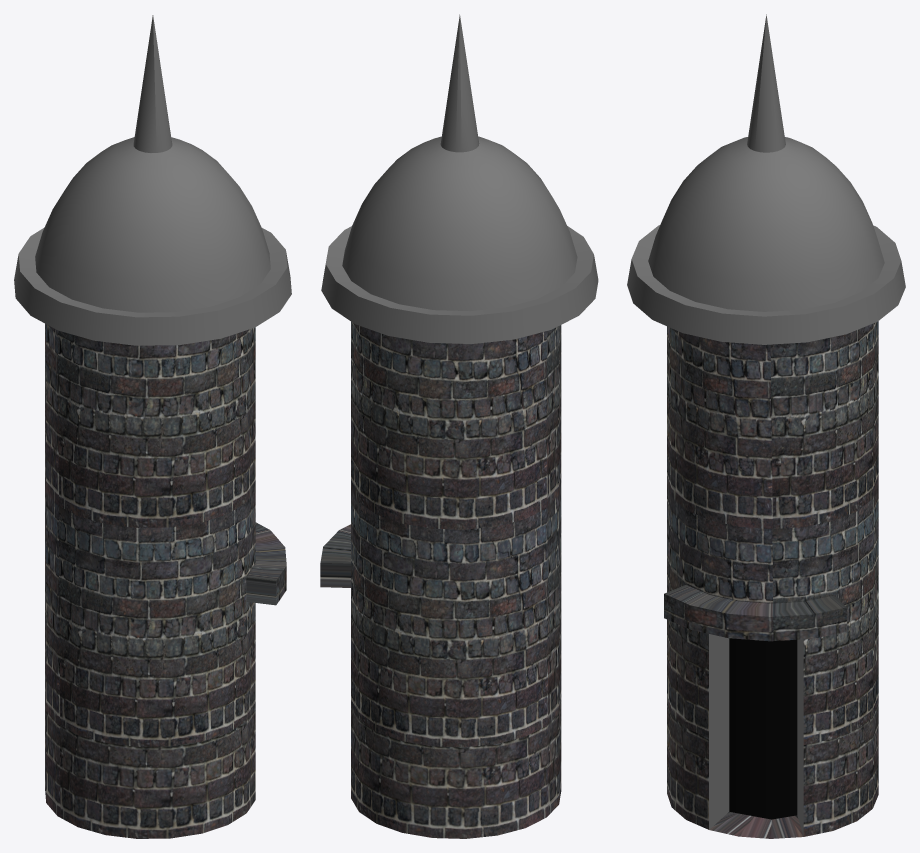
Rendered from Goal.fbx.
3 renders of one model, left to right at view 1: azimuth 30°, elevation 25°; view 2: azimuth 150°, elevation 25°; view 3: azimuth 270°, elevation 25°, orthographic.
Parts seen in each view (by area): view 1: obj3; view 2: obj3; view 3: obj3.
Part boxes in pixels (left/top/right/bottom): obj3: left=14, top=15, right=291, bottom=838; obj3: left=320, top=14, right=598, bottom=838; obj3: left=627, top=14, right=905, bottom=838.
Size of the model in its own units: 389 by 1203 by 389.
Materials: 2 (1 with a texture image).
